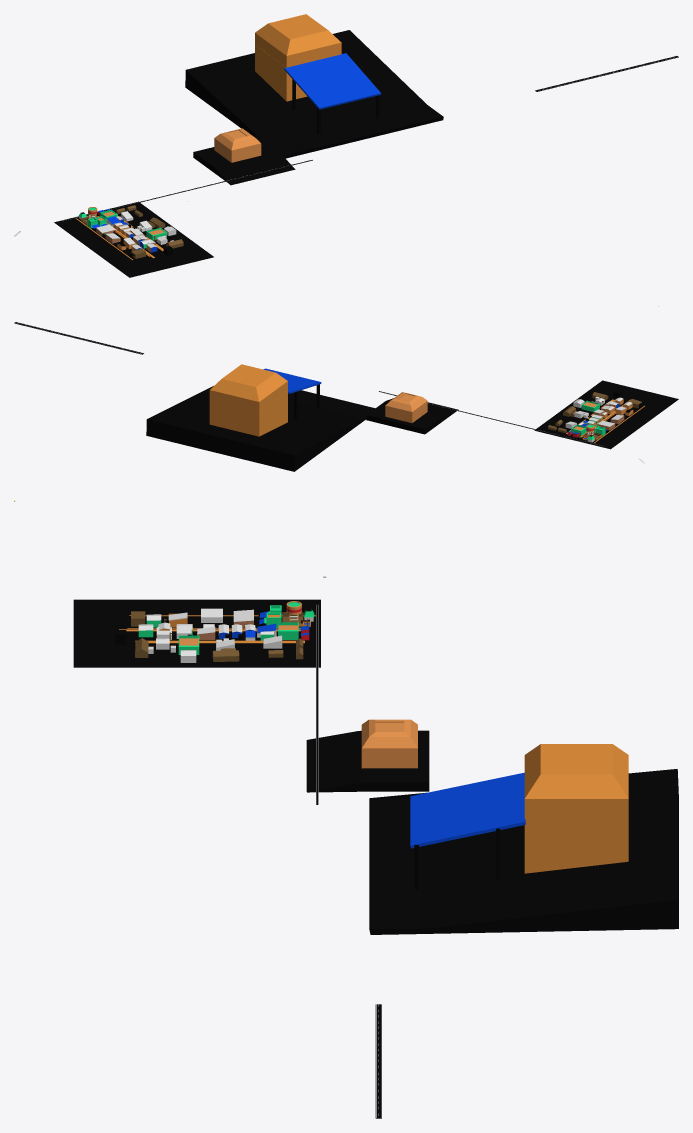
File: villag.glb
The picture shows the model from 3 angles, top to bottom: view 1: azimuth 30°, elevation 25°; view 2: azimuth 150°, elevation 25°; view 3: azimuth 270°, elevation 25°; orthographic projection. The views are drawn at different scales.
Parts seen in each view (by area): view 1: Cube.001, Cube; view 2: Cube.001, Cube; view 3: Cube.001, Cube.
Part boxes in pixels (left/top/right/bottom): Cube.001: left=185, top=14, right=678, bottom=158; Cube: left=54, top=128, right=312, bottom=277; Cube.001: left=14, top=322, right=374, bottom=471; Cube: left=366, top=380, right=678, bottom=449; Cube.001: left=369, top=744, right=678, bottom=1118; Cube: left=73, top=599, right=429, bottom=804.
Size of the model in its own units: 575 by 70.79 by 297.
